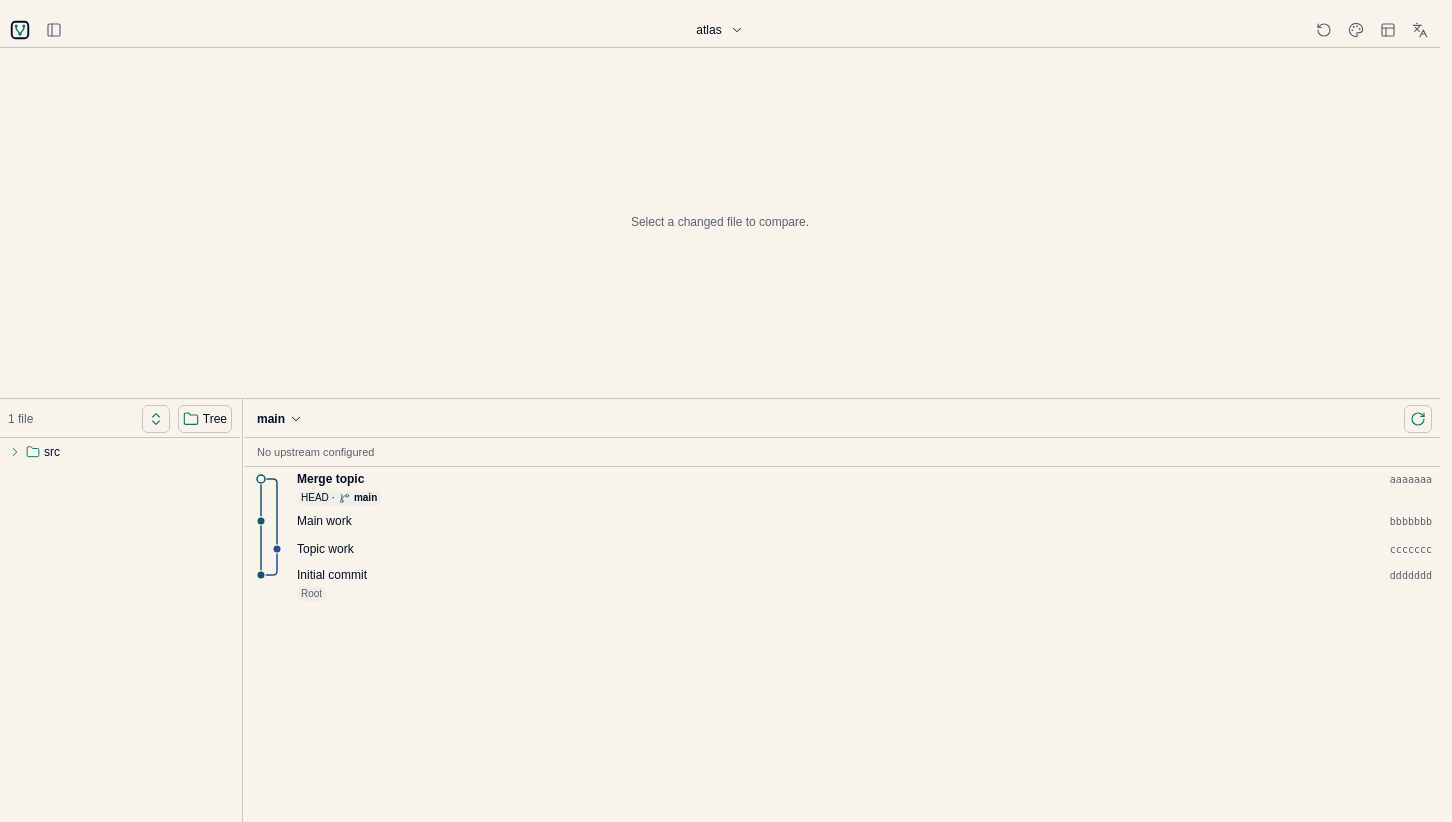
Scenario: same-entry reselection immediately clears both graph and comparison before confirmation
Click the button named "Expand all" at [156, 419], box [142, 405, 170, 433]
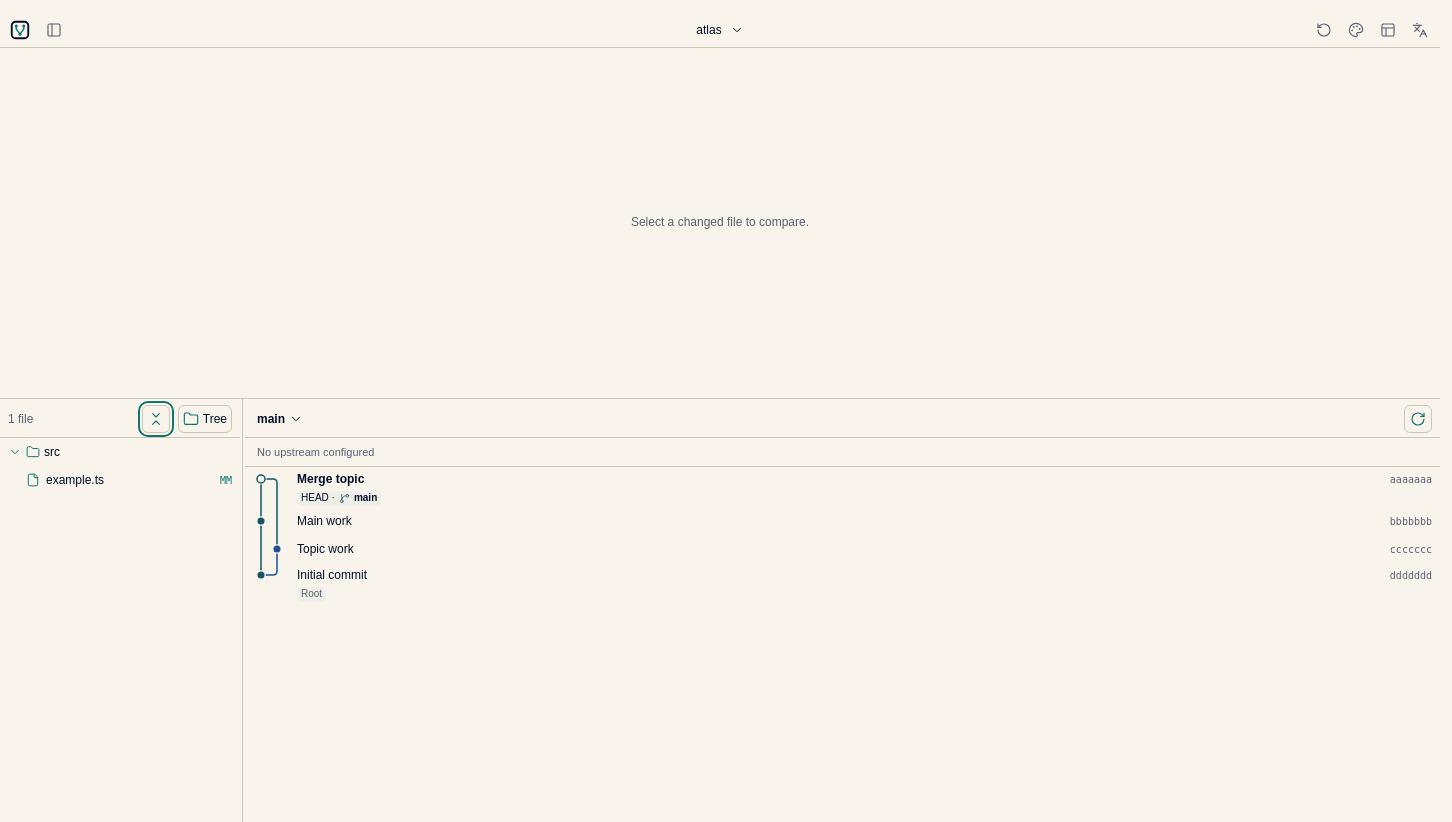
Click the button with aria-label "Review src/example.ts" at [129, 480], box [22, 466, 236, 494]
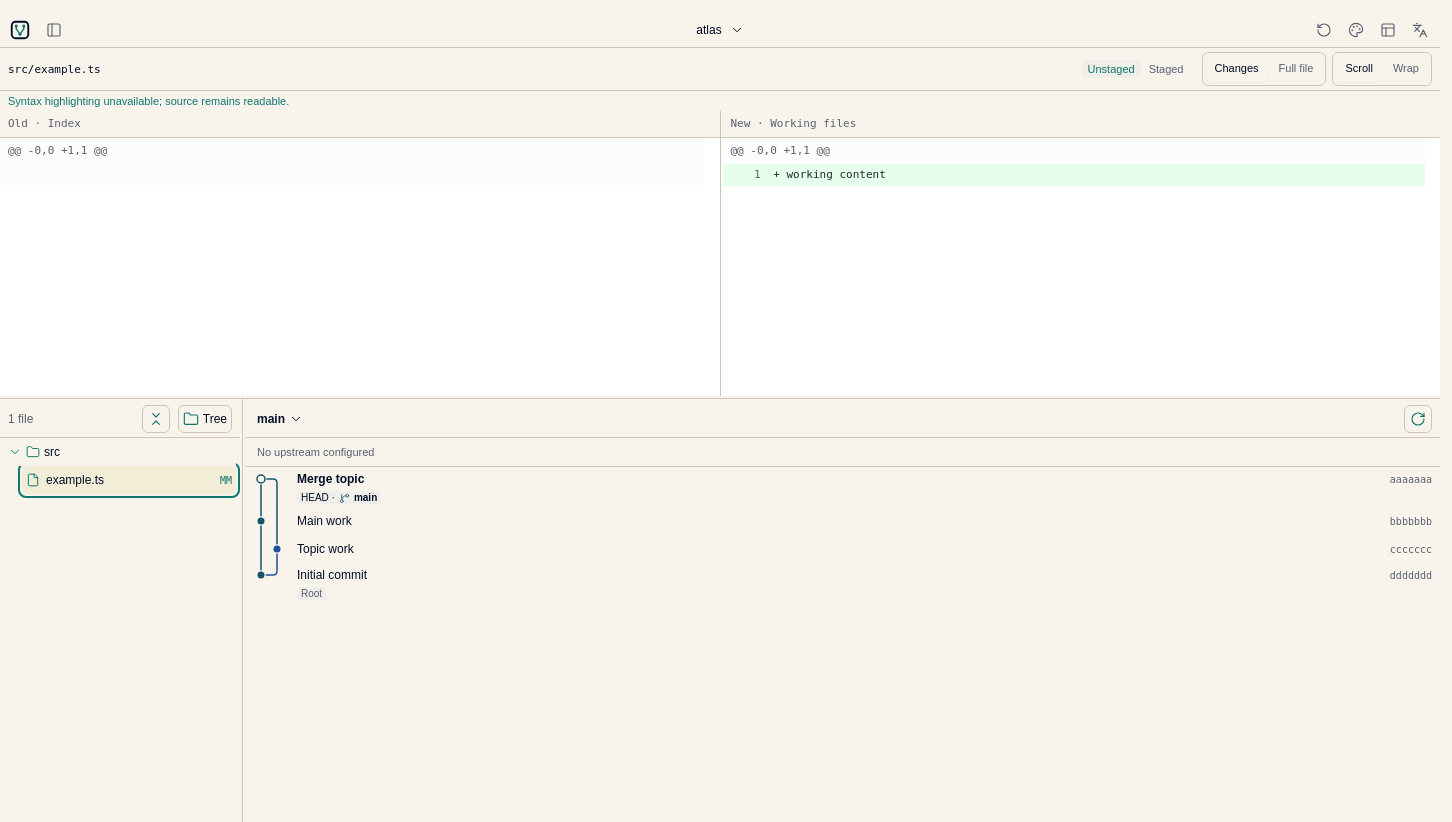
Result: the text "working content" is shown at [786, 168, 886, 181]
Click the button with aria-label "Current repository: atlas" at [720, 30], box [690, 14, 750, 44]
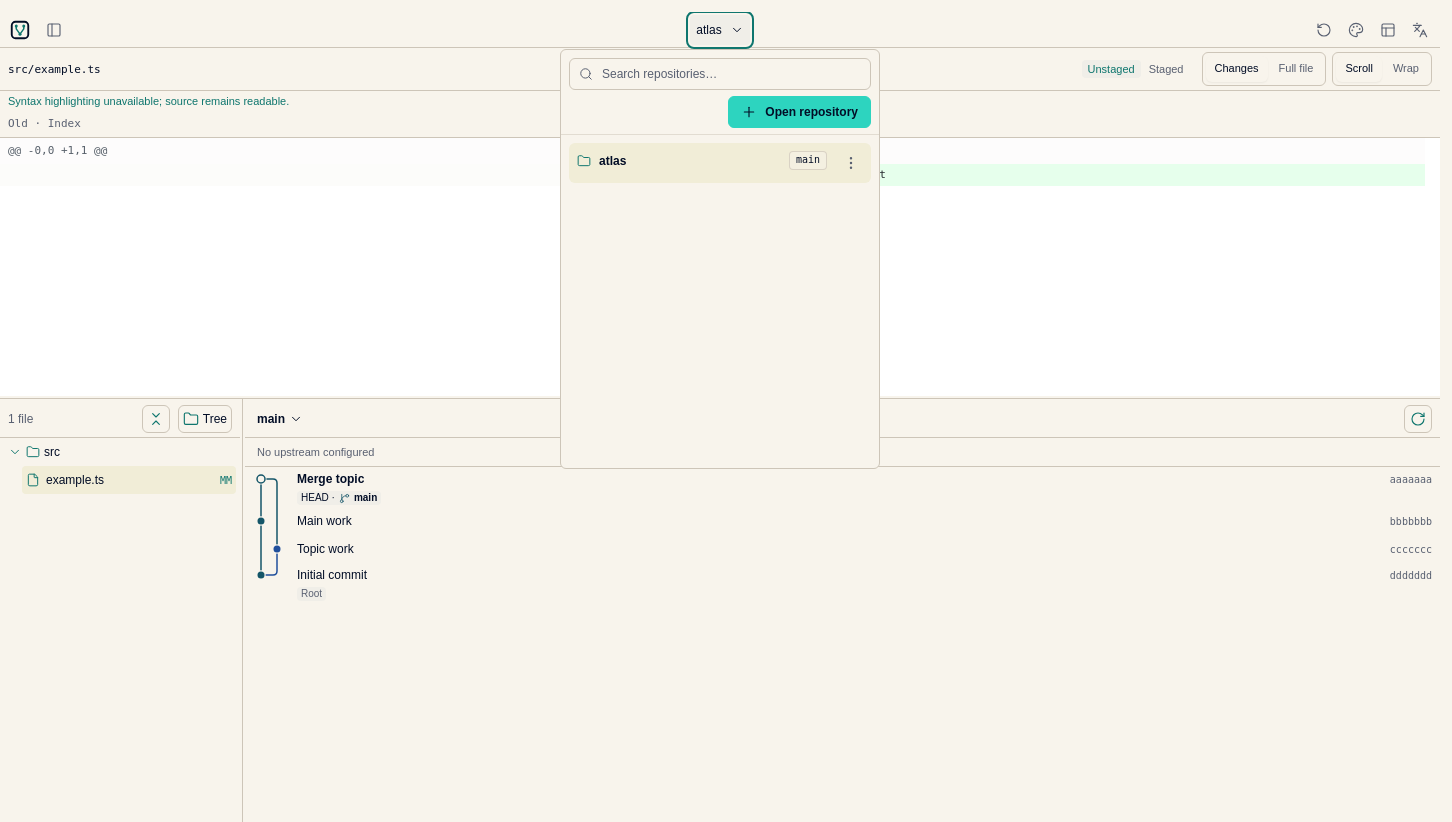
Click the button "atlas main" at [808, 160], box [569, 144, 835, 180]
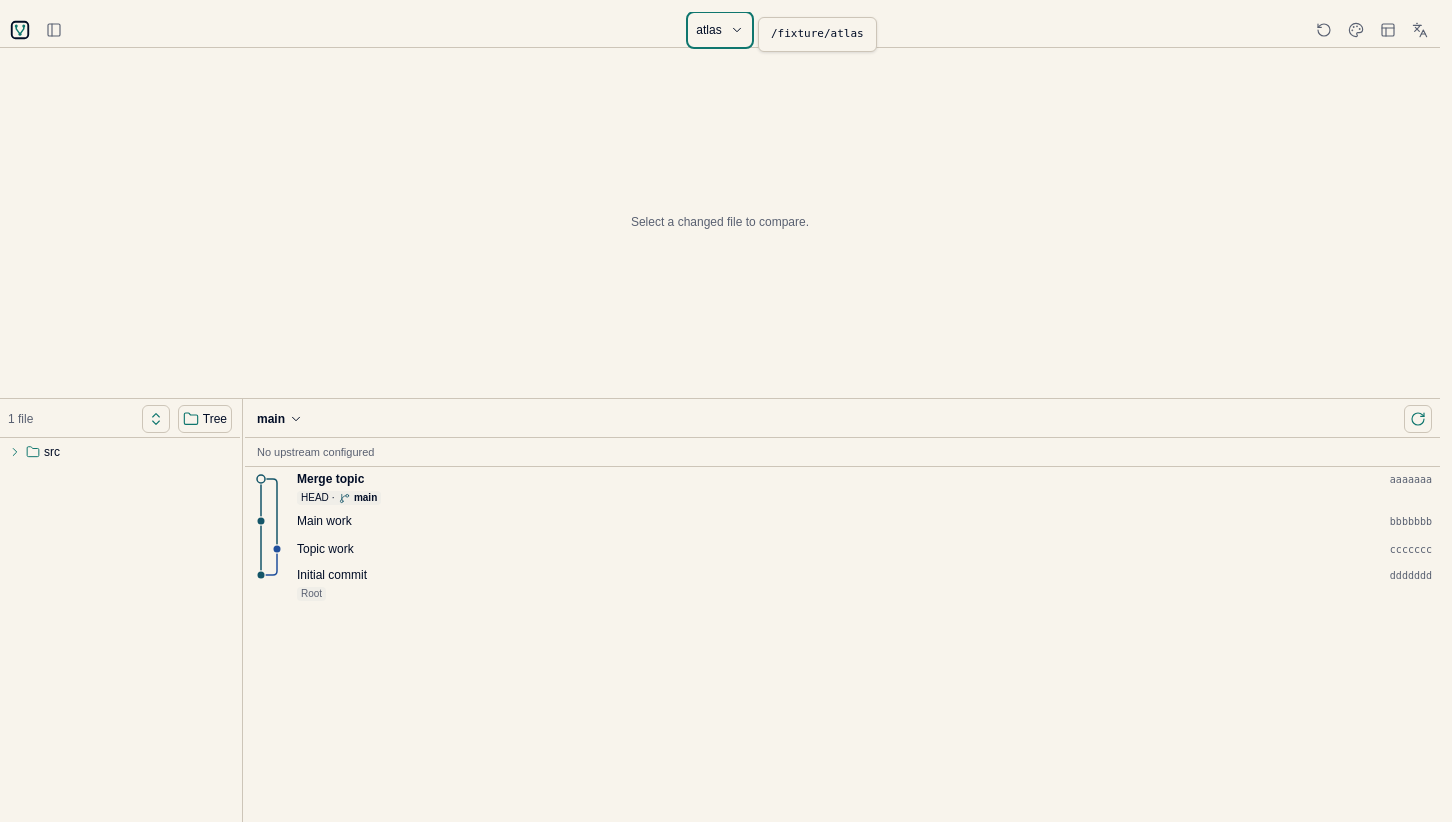
Result: the search field labelled "Repositories" is gone
Result: the text "working content" is gone
